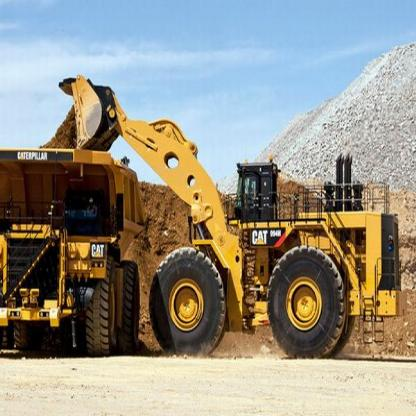bull_dozer/loader/grader: (53, 55, 412, 370)
dump_truck: (0, 146, 143, 365)
